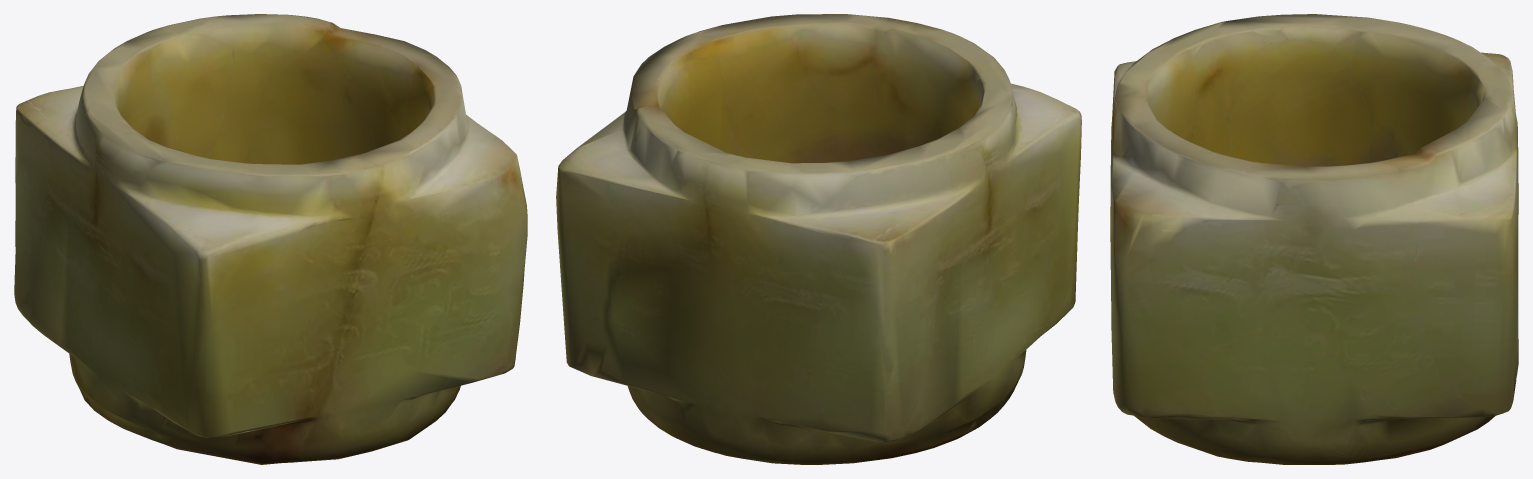
The model's file is zenghouyi-overview.glb.
3 views of the same model, side by side, from view 1: azimuth 30°, elevation 25°; view 2: azimuth 150°, elevation 25°; view 3: azimuth 270°, elevation 25° (orthographic).
Visible parts, largest first — view 1: node_0; view 2: node_0; view 3: node_0.
Boxes of the visible parts, x1=… form: node_0: x1=14, y1=14, x2=527, y2=464; node_0: x1=556, y1=14, x2=1081, y2=464; node_0: x1=1110, y1=14, x2=1518, y2=464.
Size of the model in its own units: 0.8135 by 0.6663 by 0.8266.
Materials: 1 (1 with a texture image).
